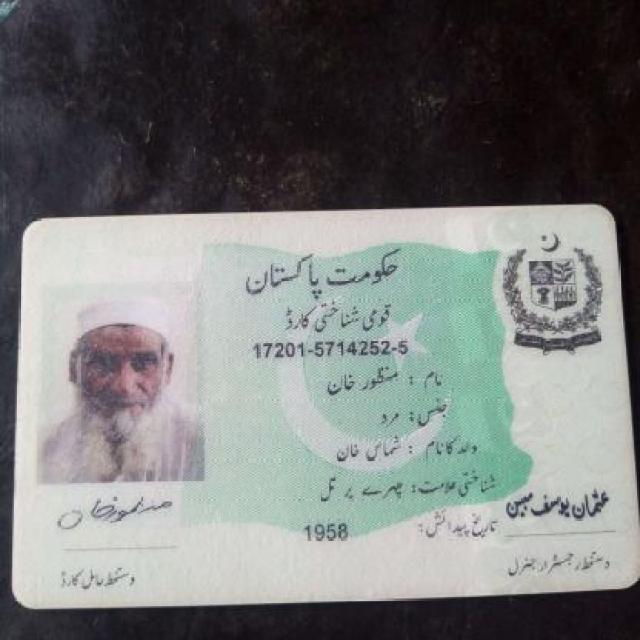Front: (15, 207, 634, 596)
